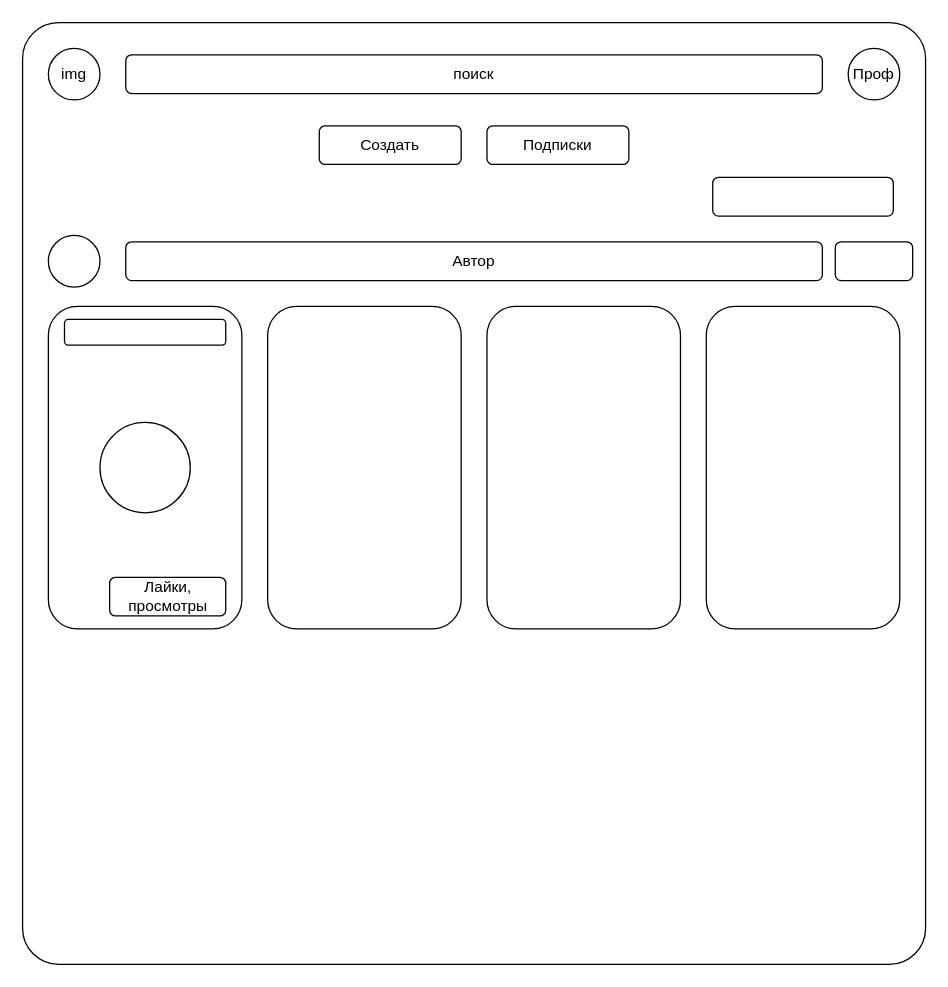
Image size: 948x987. Some labels were removed from this diagram. Each missing label, with the centre of its shape:
Лайк: point (144, 467)
Нвзвание: point (144, 331)
Сортировать по: point (802, 196)
Число подписок: point (873, 261)
